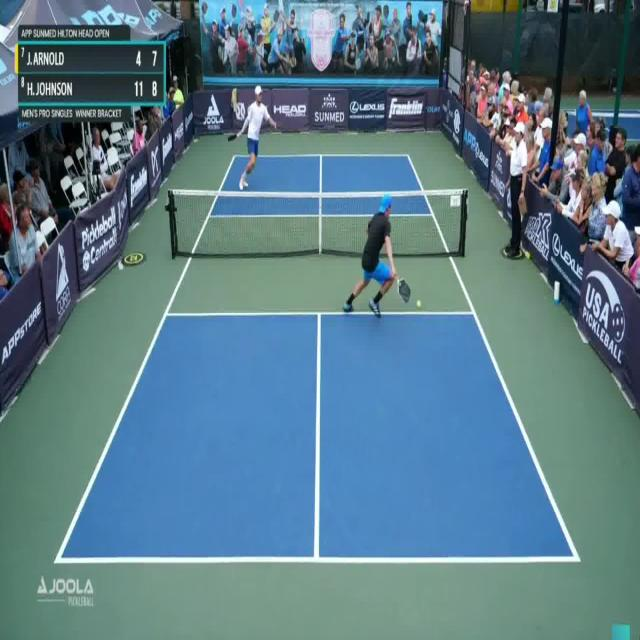Court: (51, 155, 582, 563)
ball: (414, 295, 424, 312)
